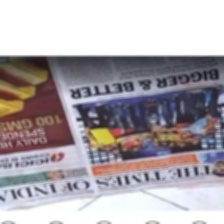news_paper: (0, 54, 224, 213)
